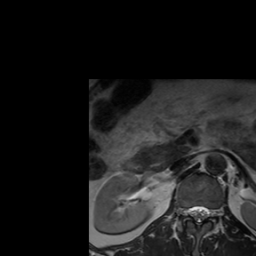CCS_normal: (194, 199, 202, 232)
LFS_normal: (209, 200, 217, 223)
LLS_normal: (202, 200, 209, 223)
RFS_normal: (179, 200, 186, 223)
RLS_normal: (186, 200, 194, 223)
